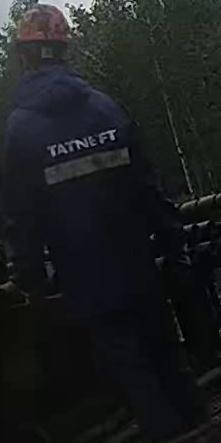gloves: (6, 274, 62, 348), (157, 239, 194, 287)
helmet: (12, 3, 69, 47)
vest: (1, 79, 155, 289)
